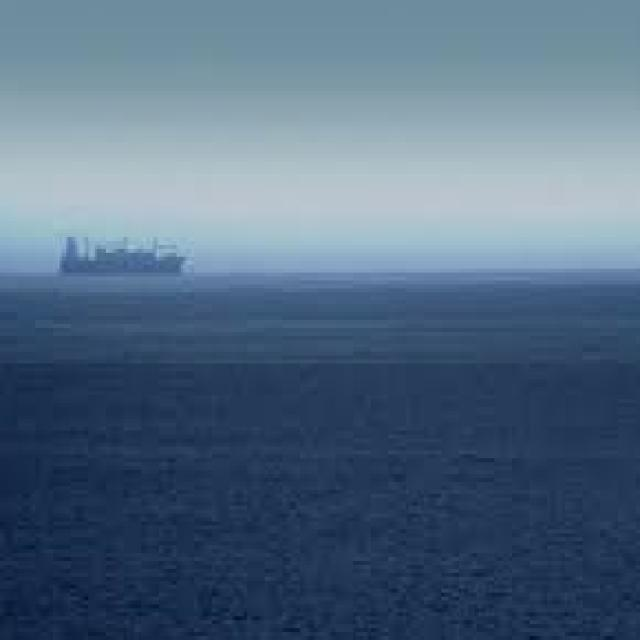cargoship: (47, 217, 178, 295)
